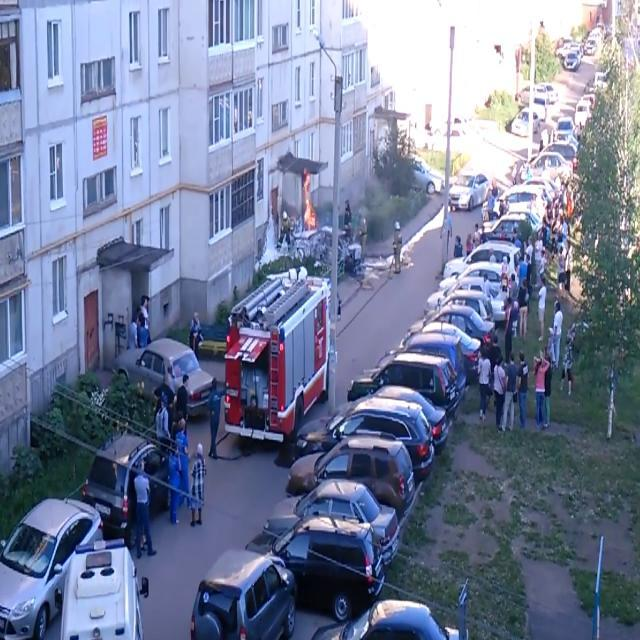Fire: (300, 166, 317, 232)
